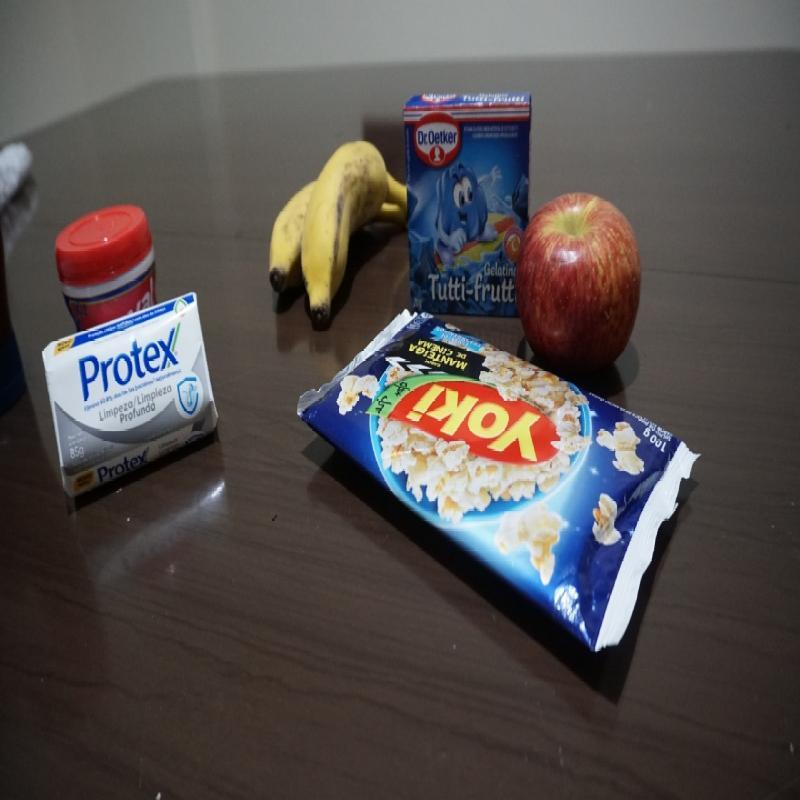Apple: (514, 188, 645, 386)
Banana: (265, 141, 410, 323)
Gelatine: (402, 89, 532, 324)
Popcorn: (294, 307, 705, 662)
Soap: (42, 289, 222, 504)
Yeast: (52, 202, 164, 336)
